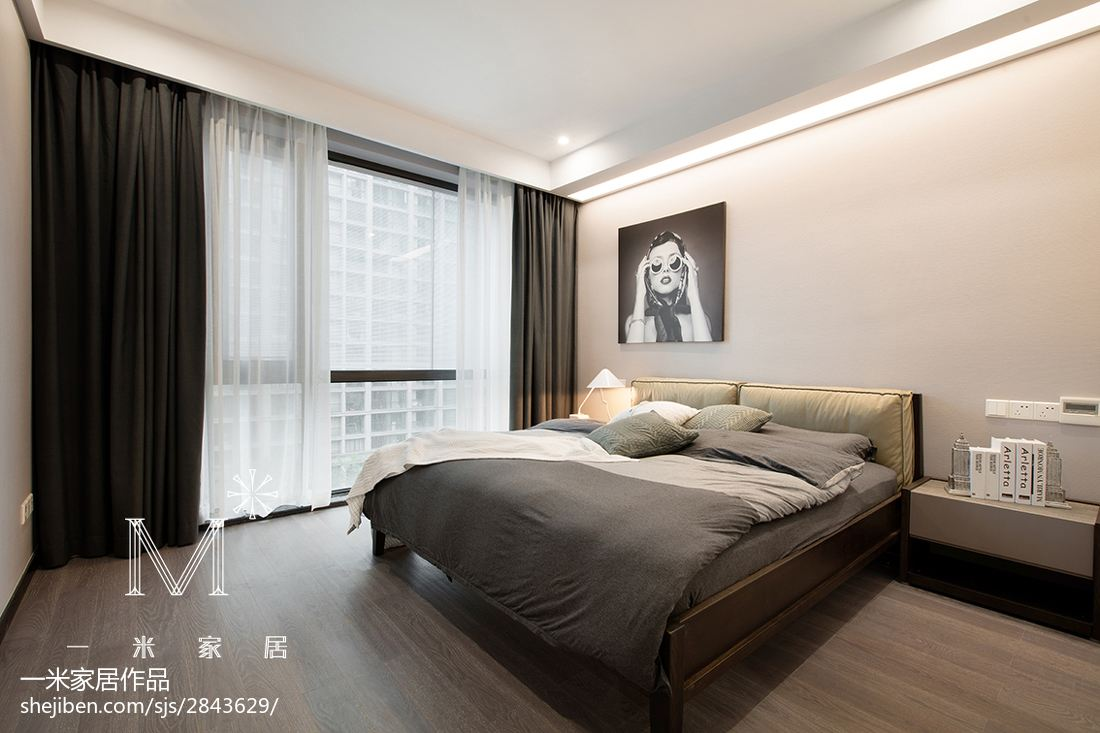床: (361, 418, 889, 689)
枕头: (567, 393, 822, 458)
灯: (578, 374, 635, 422), (546, 126, 572, 157)
